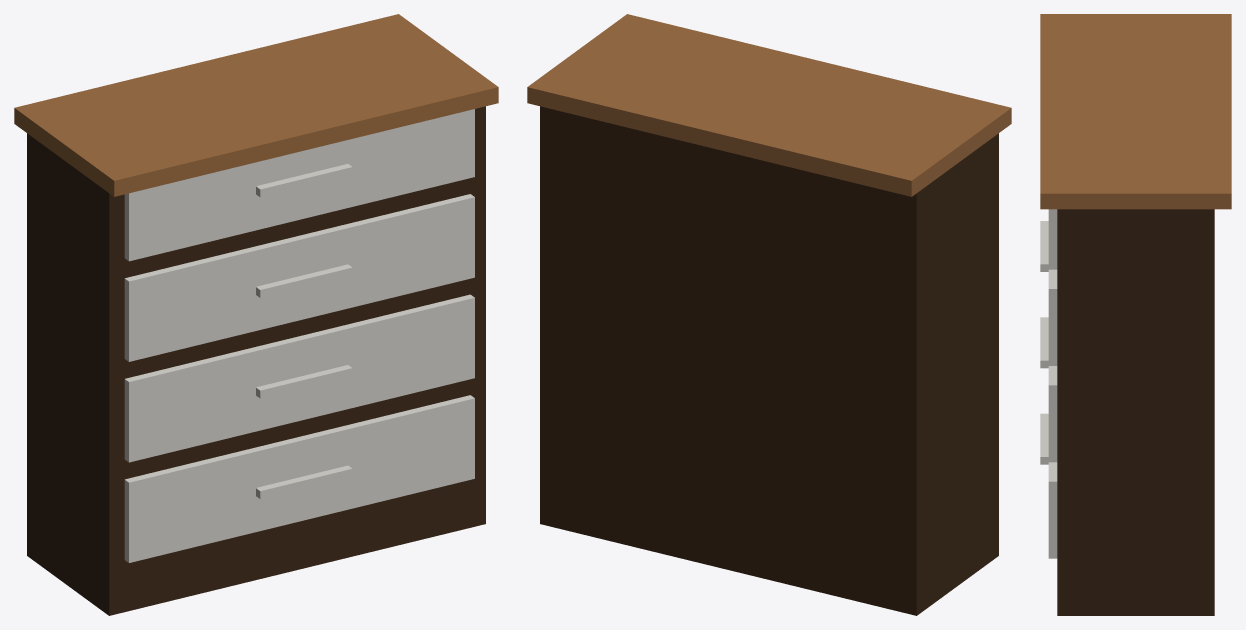
Rendered from chestdrawer.glb.
The picture shows the model from 3 angles, left to right: view 1: azimuth 30°, elevation 25°; view 2: azimuth 150°, elevation 25°; view 3: azimuth 270°, elevation 25°; orthographic projection. The views are drawn at different scales.
Parts seen in each view (by area): view 1: material-1-drawer, material-0-body, material-2-top; view 2: material-0-body, material-2-top; view 3: material-0-body, material-2-top, material-1-drawer.
Boxes of the visible parts, box(x1,y1,x2,y2) form: material-1-drawer: box(124, 109, 474, 562); material-0-body: box(27, 106, 485, 615); material-2-top: box(14, 14, 498, 196); material-0-body: box(540, 106, 998, 615); material-2-top: box(527, 14, 1011, 196); material-0-body: box(1057, 209, 1214, 615); material-2-top: box(1040, 14, 1231, 209); material-1-drawer: box(1040, 209, 1057, 558).
Size of the model in its own units: 1 by 1.1 by 0.45.
